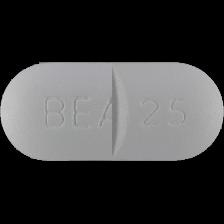0486-1125: (0, 0, 224, 224)
